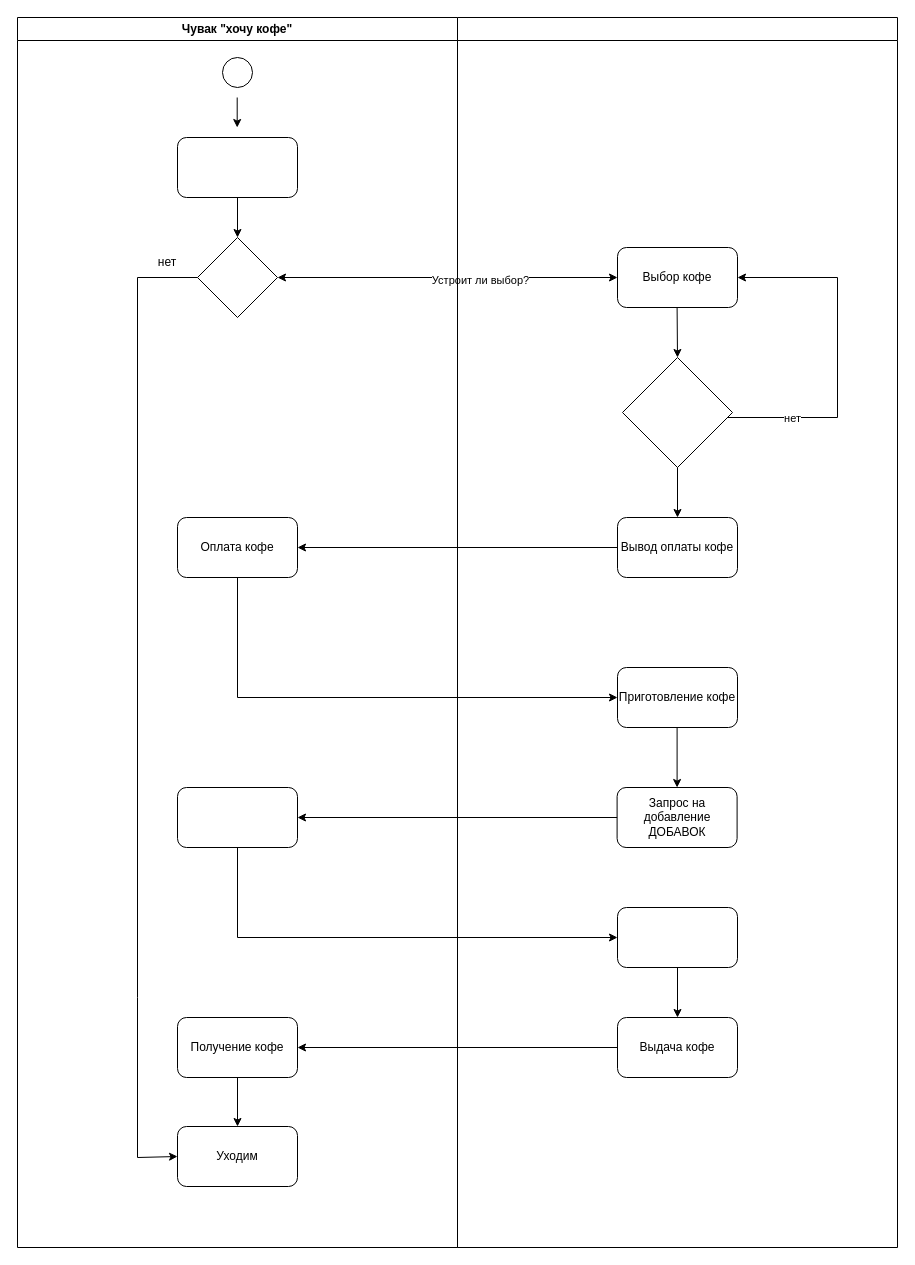
Some shapes in this 915 by 1265 pixel diagram are drawn without their labels. The shapes that lost their labels are listed below. From the top down, each one's box as (x1, y1, x2, y2) in pixels, then its label:
(176, 136, 298, 198): Подойти к кофеварке
(622, 356, 732, 468): Есть ли ингредиенты?
(456, 16, 898, 1248): Кофеварка
(176, 786, 298, 848): Выбор добавок
(616, 906, 738, 968): Добавление ДОБАВОК К КОФЕ
